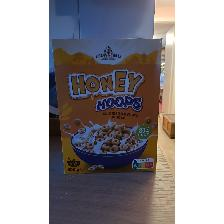Cerealien: (50, 37, 164, 175)
